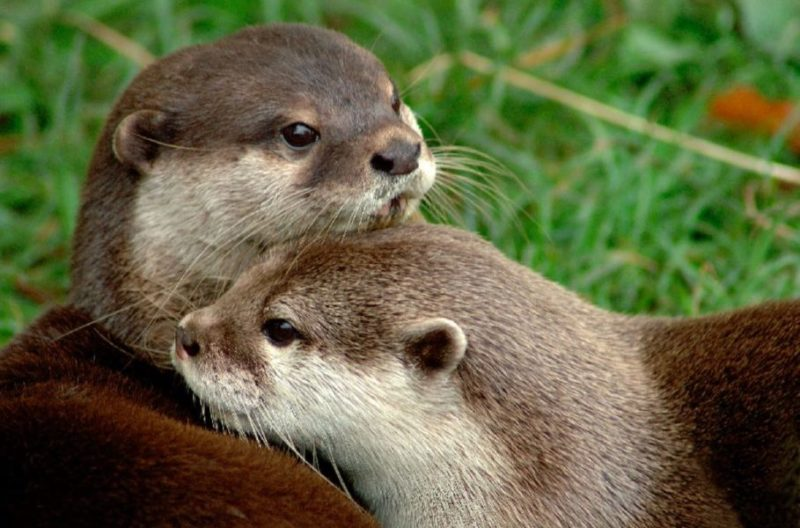otter: (67, 14, 769, 528)
